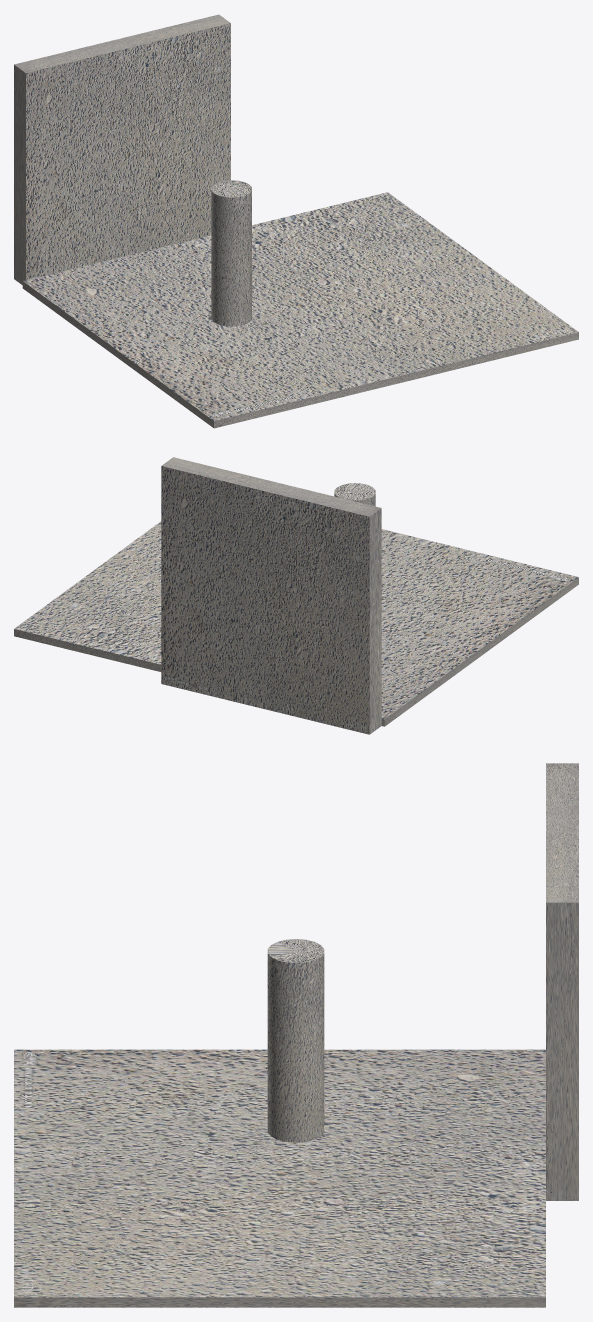
Rendered from evn.obj.
3 views of the same model, one above another, from view 1: azimuth 30°, elevation 25°; view 2: azimuth 150°, elevation 25°; view 3: azimuth 270°, elevation 25° (orthographic). The views are drawn at different scales.
Parts seen in each view (by area): view 1: Box002; view 2: Box002; view 3: Box002.
Part boxes in pixels (<box>): Box002: <box>14,14,578,428</box>; Box002: <box>14,457,578,734</box>; Box002: <box>14,763,578,1307</box>.
Bounding box in the file's own units: 178 × 100 × 172.
